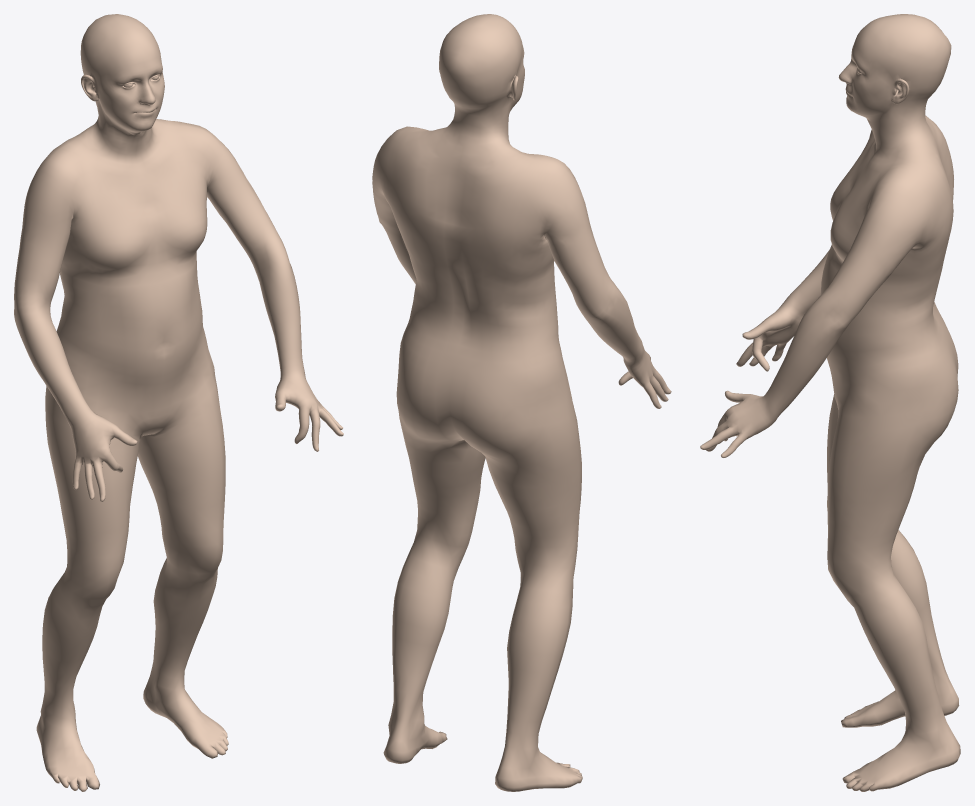
Rendered from WORD-01653.glb.
The picture shows the model from 3 angles, left to right: view 1: azimuth 30°, elevation 25°; view 2: azimuth 150°, elevation 25°; view 3: azimuth 270°, elevation 25°; orthographic projection. The views are drawn at different scales.
Size of the model in its own units: 0.6116 by 1.72 by 0.551.
